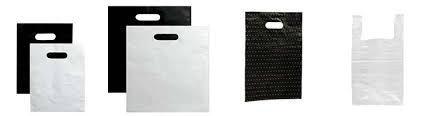Plastic bag: (101, 3, 216, 116), (10, 18, 94, 114), (236, 11, 313, 110), (338, 13, 411, 116)
